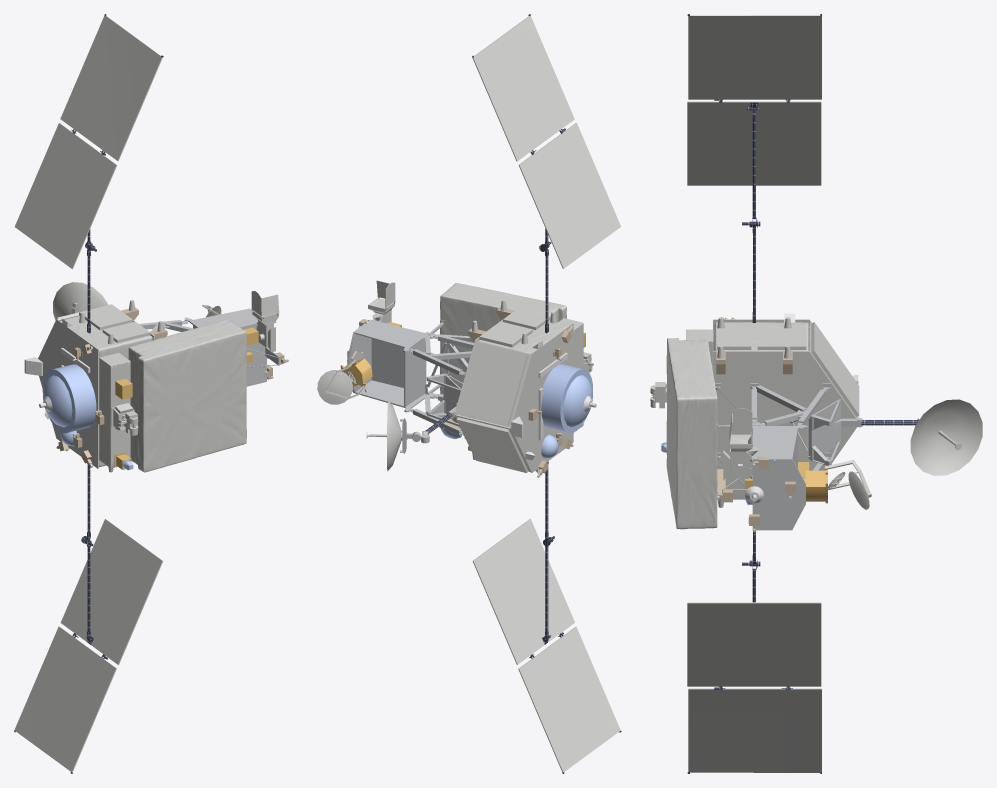
Rendered from trmm.glb.
The picture shows the model from 3 angles, left to right: view 1: azimuth 30°, elevation 25°; view 2: azimuth 150°, elevation 25°; view 3: azimuth 270°, elevation 25°; orthographic projection. The views are drawn at different scales.
Parts seen in each view (by area): view 1: TRMM [CERES], TRMM [Blue_Surfaces], TRMM [TRMM_Structure], TRMM [Sat/Solar_Arms], TRMM [Brown Surfaces], TRMM [Silver Surfaces], TRMM [Microwave_Body]; view 2: TRMM [CERES], TRMM [TRMM_Structure], TRMM [Blue_Surfaces], TRMM [Sat/Solar_Arms], TRMM [Silver Surfaces], TRMM [Brown Surfaces], TRMM [Microwave_Body]; view 3: TRMM [CERES], TRMM [TRMM_Structure], TRMM [Sat/Solar_Arms], TRMM [Brown Surfaces], TRMM [Microwave_Body].
Boxes of the visible parts, <box> form: TRMM [CERES]: <box>14,15,288,772</box>; TRMM [Blue_Surfaces]: <box>42,364,133,470</box>; TRMM [TRMM_Structure]: <box>139,308,280,386</box>; TRMM [Sat/Solar_Arms]: <box>71,129,107,659</box>; TRMM [Brown Surfaces]: <box>57,307,285,465</box>; TRMM [Silver Surfaces]: <box>24,318,269,451</box>; TRMM [Microwave_Body]: <box>114,327,258,469</box>; TRMM [CERES]: <box>317,16,620,772</box>; TRMM [TRMM_Structure]: <box>347,319,473,438</box>; TRMM [Blue_Surfaces]: <box>358,325,592,458</box>; TRMM [Sat/Solar_Arms]: <box>425,128,565,658</box>; TRMM [Silver Surfaces]: <box>365,319,596,472</box>; TRMM [Brown Surfaces]: <box>347,307,572,475</box>; TRMM [Microwave_Body]: <box>340,322,585,428</box>; TRMM [CERES]: <box>650,15,982,772</box>; TRMM [TRMM_Structure]: <box>715,383,840,530</box>; TRMM [Sat/Solar_Arms]: <box>714,99,918,689</box>; TRMM [Brown Surfaces]: <box>716,317,795,529</box>; TRMM [Microwave_Body]: <box>745,462,827,503</box>.
Size of the model in its own units: 5.1 by 14.46 by 5.37.
Materials: 7 (1 with a texture image).
